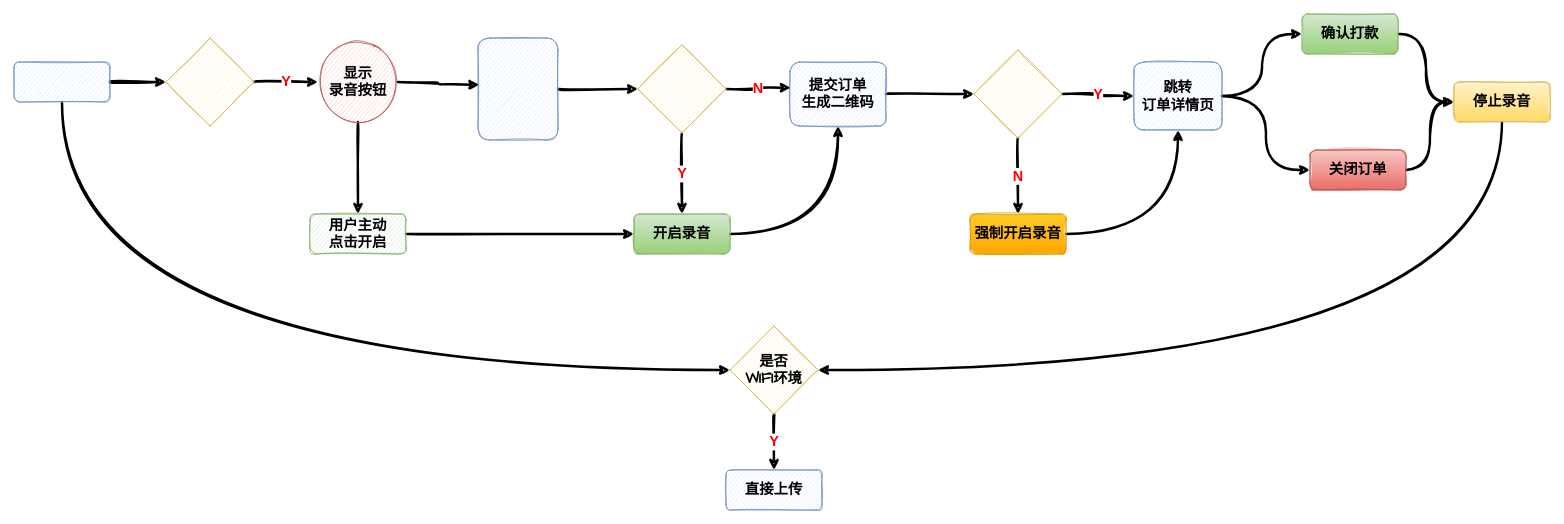
This 1564x524 diagram has some shape labels left out. Here are the shapes that lost their labels. From the top down, the centre of each, then its label:
At (61,81): "店员端首页".
At (209,81): "是否 有录音权限".
At (517,88): "用户点击创建直卖订单，提示用户是否开启".
At (681,88): "是否 开启".
At (1017,93): "是否 正在录音".
